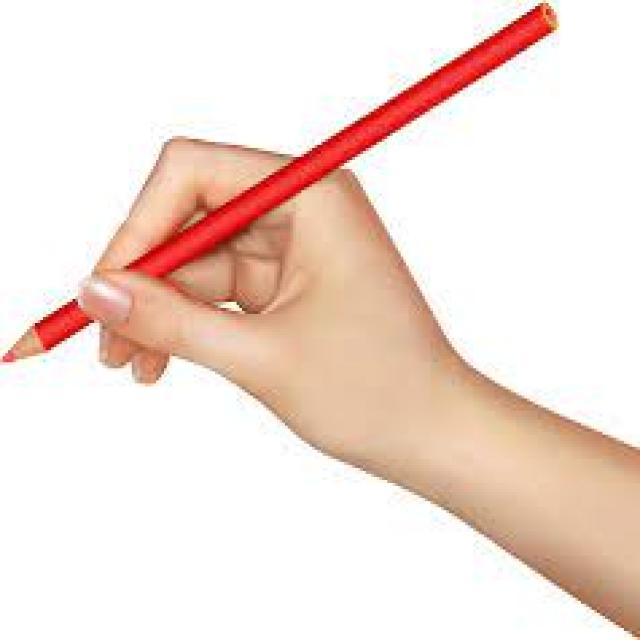pencil: (0, 6, 571, 379)
